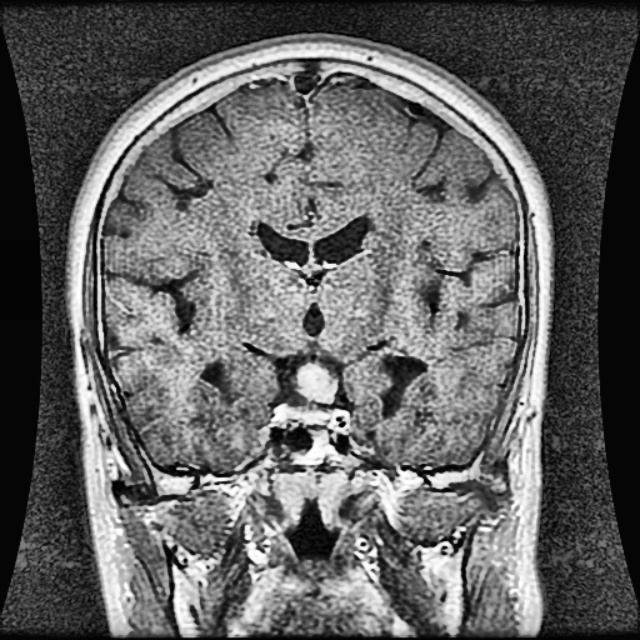Pituitary: (294, 358, 339, 403)
